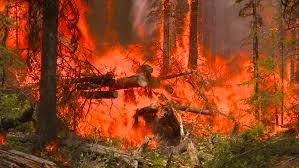fire: (57, 1, 299, 135), (1, 1, 40, 98)
